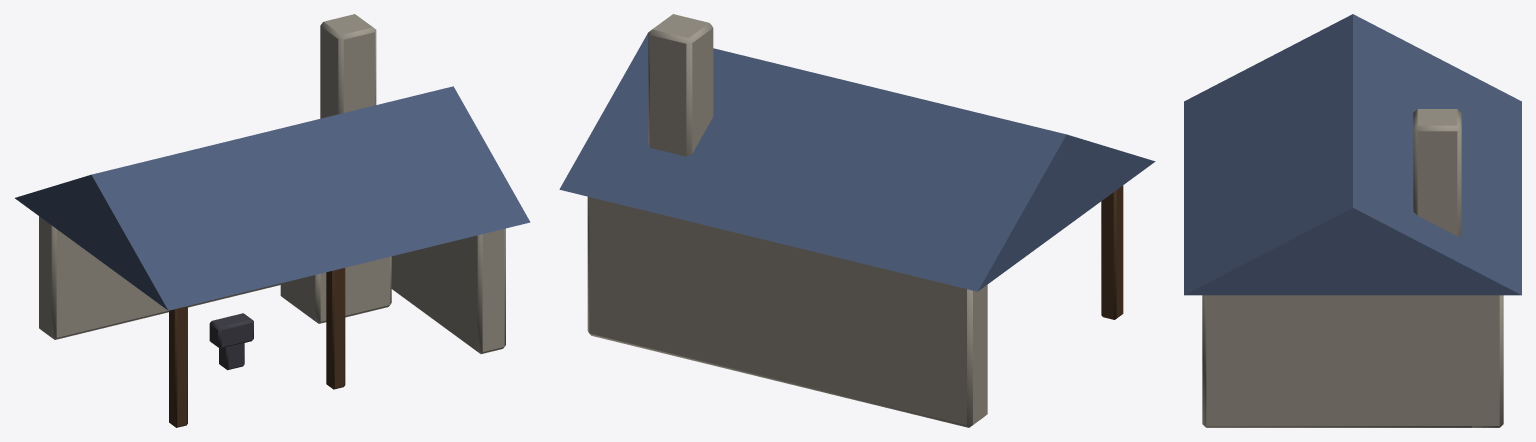
The model's file is smithy.glb.
The picture shows the model from 3 angles, left to right: view 1: azimuth 30°, elevation 25°; view 2: azimuth 150°, elevation 25°; view 3: azimuth 270°, elevation 25°; orthographic projection. The views are drawn at different scales.
Visible parts, largest first — view 1: building; view 2: building; view 3: building.
Boxes of the visible parts, box(x1,y1,x2,y2) form: building: box(15, 14, 530, 427); building: box(559, 14, 1155, 427); building: box(1184, 14, 1521, 427).
Size of the model in its own units: 3.8 by 2.6 by 2.8.
